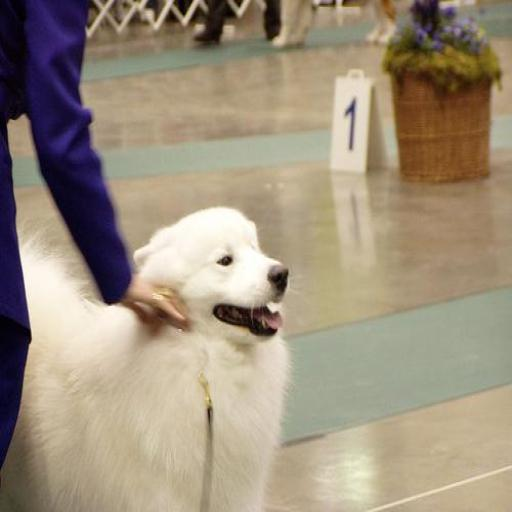dog_face: (147, 208, 294, 348)
